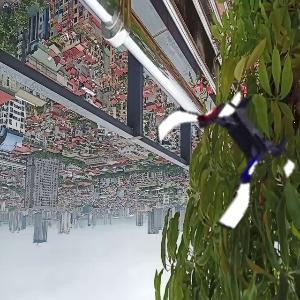drone: (153, 78, 299, 224)
